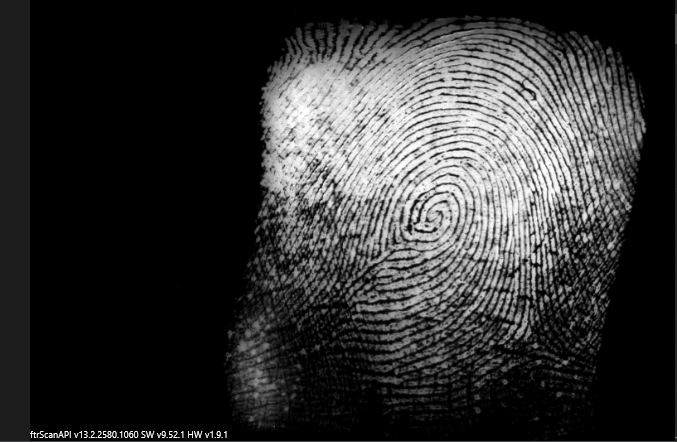deltas: (510, 315, 552, 365)
nucleo: (414, 187, 457, 241)
